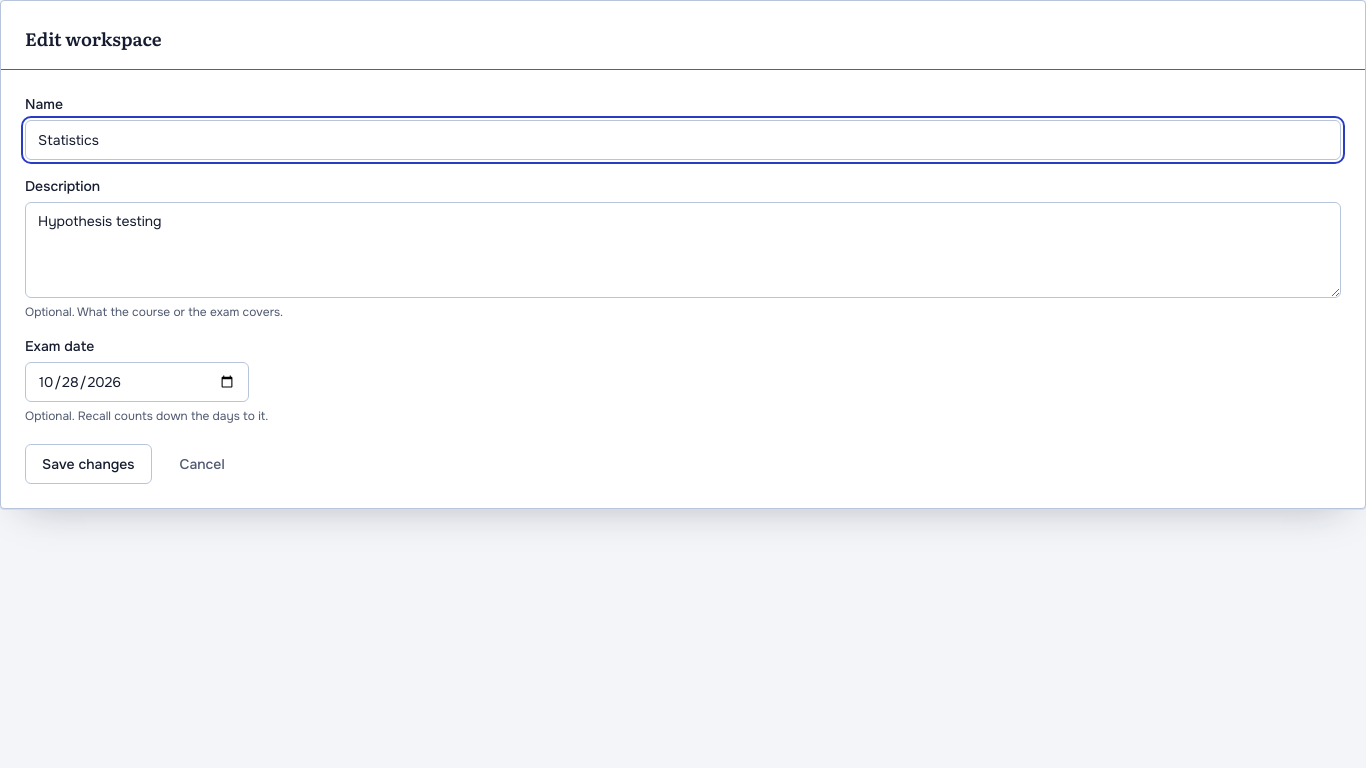
Scenario: EditWorkspaceForm › points at a field the server rejected, in its own words
This screenshot has width=1366, height=768.
Step 1. Replace the text in the field labelled "Name" with "Applied statistics" → (683, 140), box x1=25 y1=120 x2=1341 y2=160
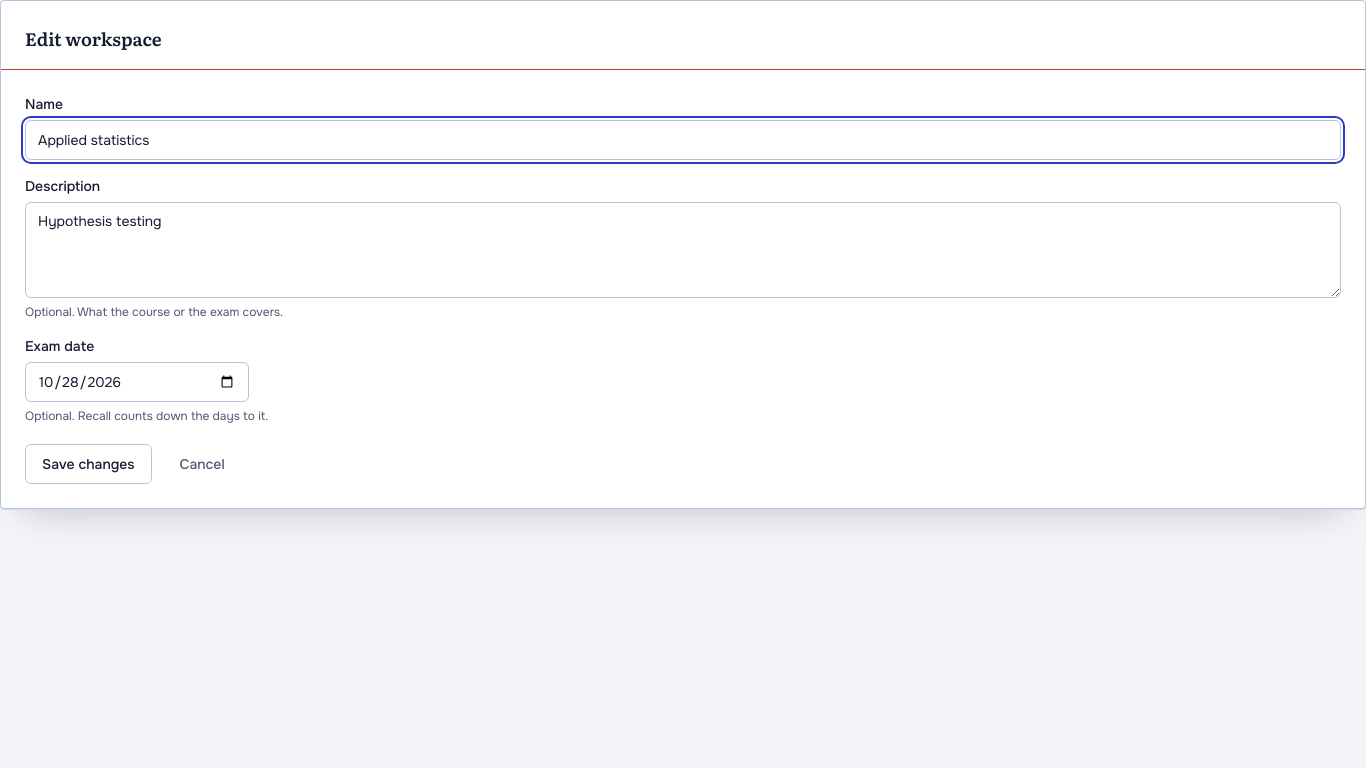
Step 2. Click the button "Save changes" → (88, 464), box x1=25 y1=444 x2=152 y2=484
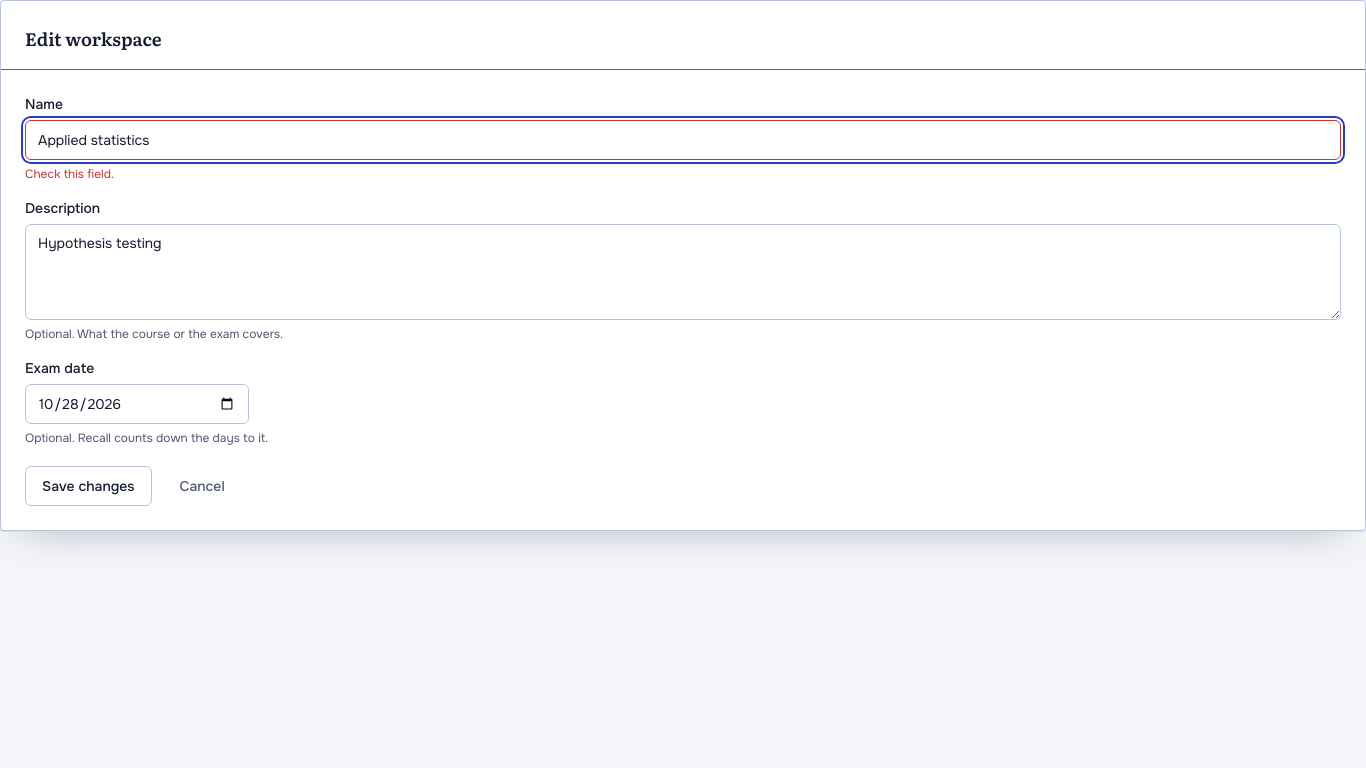
Now the text "Check this field." is shown, box x1=25 y1=166 x2=114 y2=182
